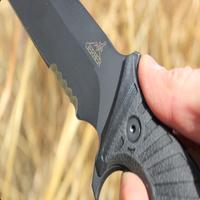knife: (9, 1, 185, 196)
